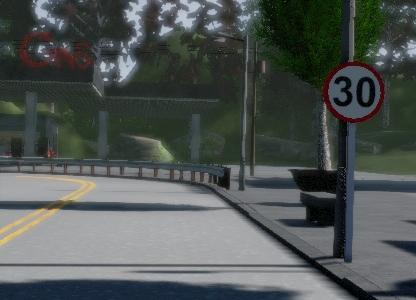Speed_30: (312, 58, 389, 125)
